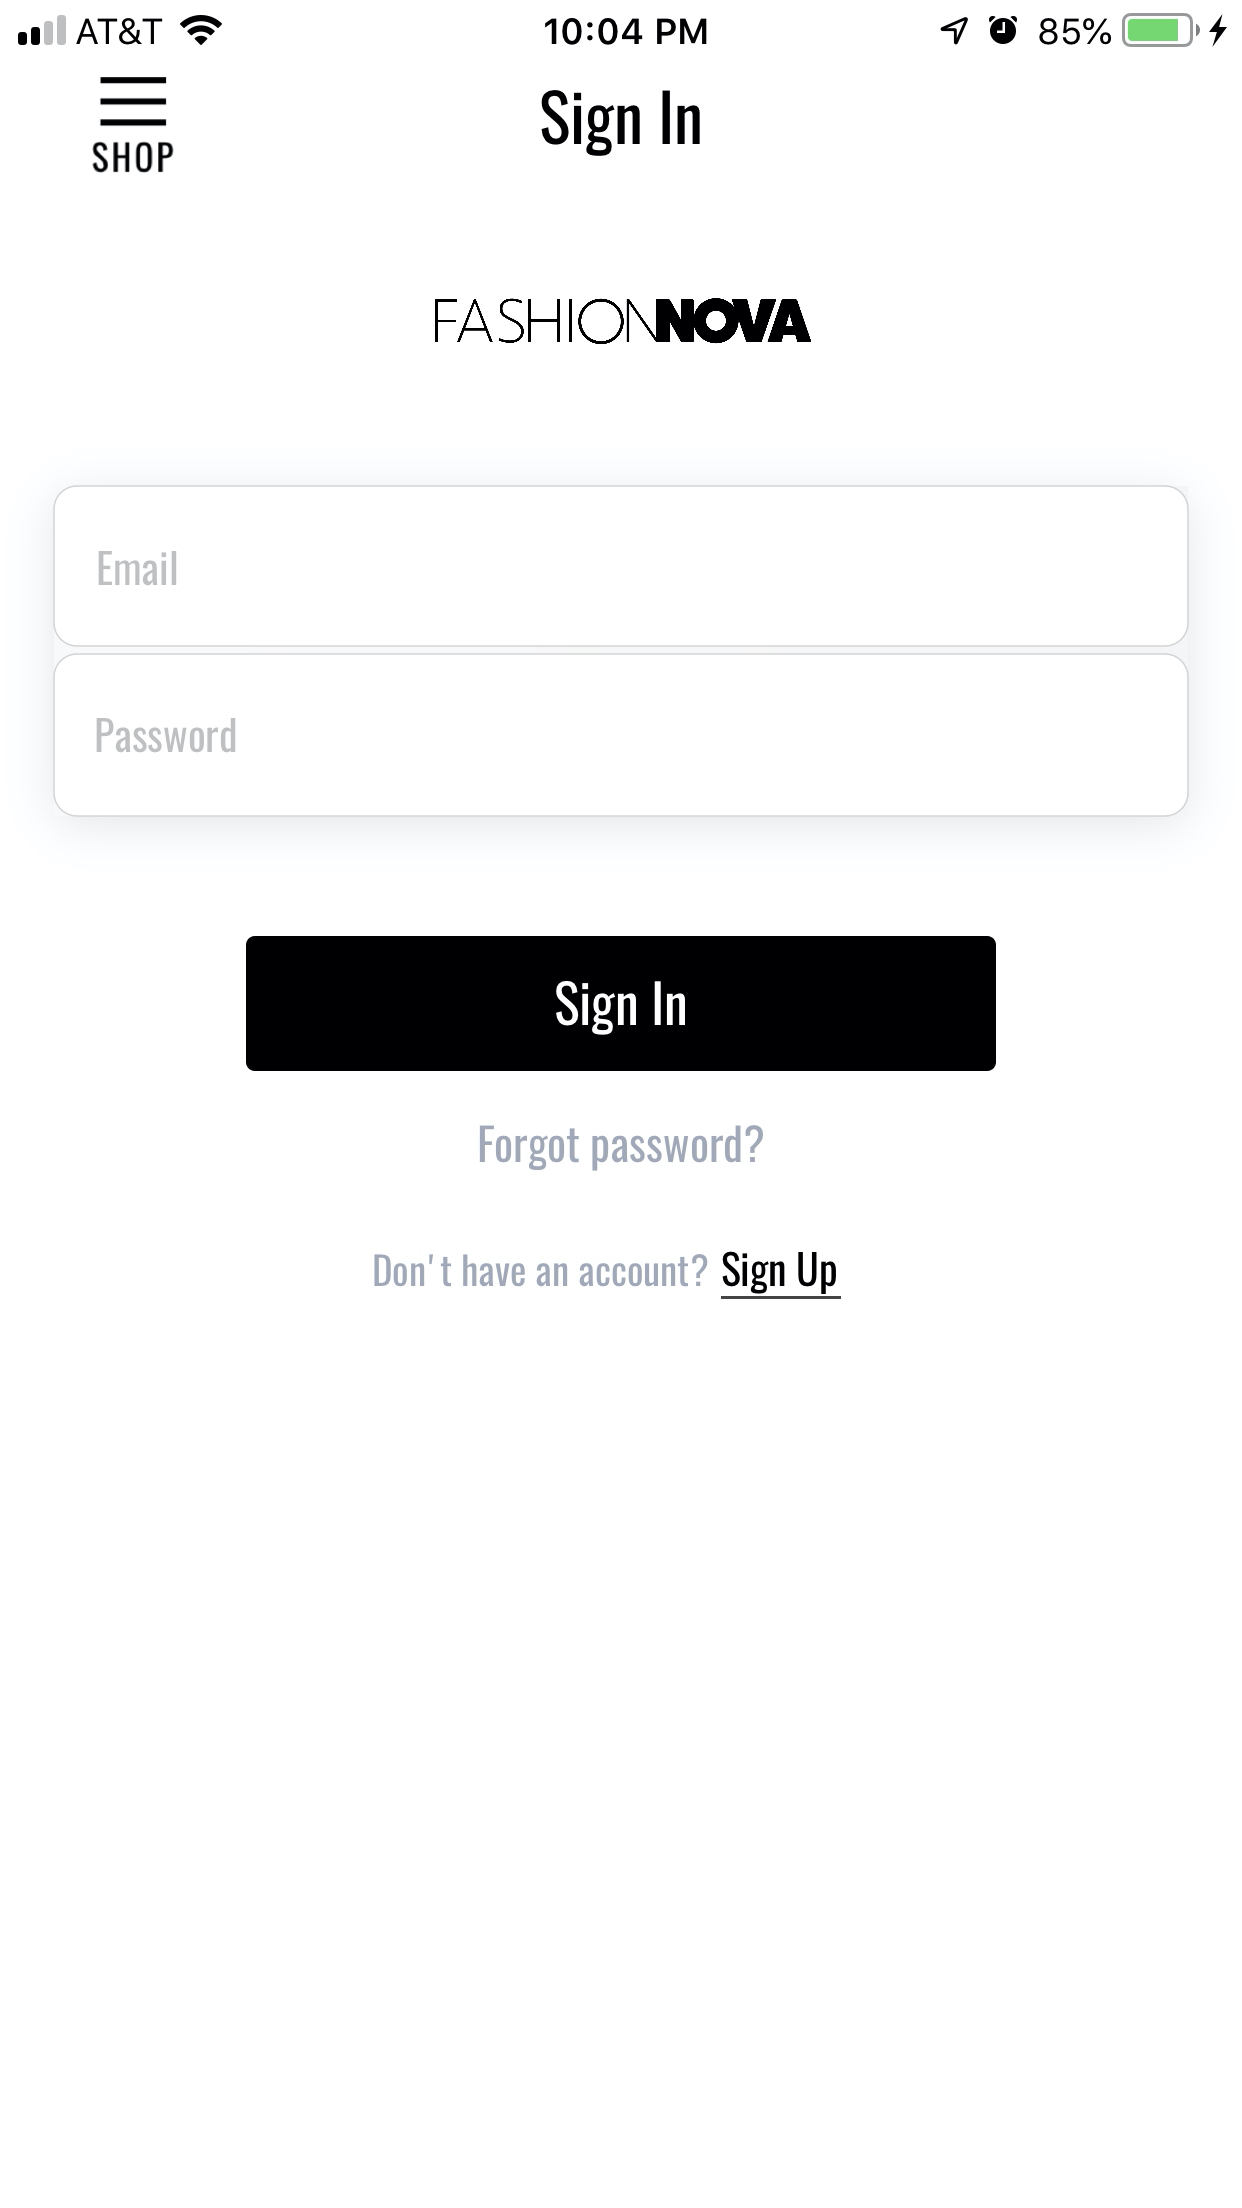EditText: (53, 654, 1189, 817), (53, 485, 1189, 648)
Icon: (102, 77, 168, 127)
Image: (437, 299, 811, 346)
Text: (479, 1125, 764, 1172), (375, 1254, 708, 1287), (541, 89, 701, 158), (720, 1251, 842, 1300), (96, 717, 237, 754), (99, 552, 177, 587), (93, 143, 174, 174)
TextButton: (246, 936, 996, 1072)
UpperTaskBar: (2, 2, 1242, 49)
